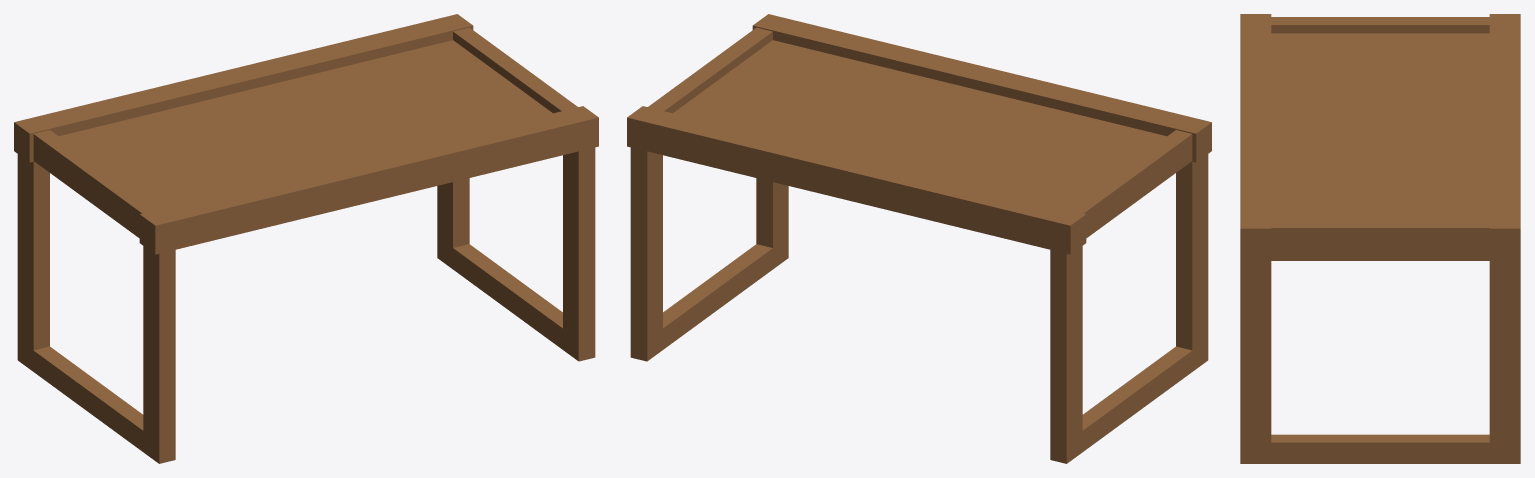
File: Wooden_Table.fbx
3 views of the same model, side by side, from view 1: azimuth 30°, elevation 25°; view 2: azimuth 150°, elevation 25°; view 3: azimuth 270°, elevation 25° (orthographic).
Parts seen in each view (by area): view 1: Wooden_Table; view 2: Wooden_Table; view 3: Wooden_Table.
Boxes of the visible parts, x1,y1,x2,y2 form: Wooden_Table: (14,14,598,463); Wooden_Table: (627,14,1211,463); Wooden_Table: (1240,14,1520,463).
Bounding box in the file's own units: 194 × 99.85 × 107.
